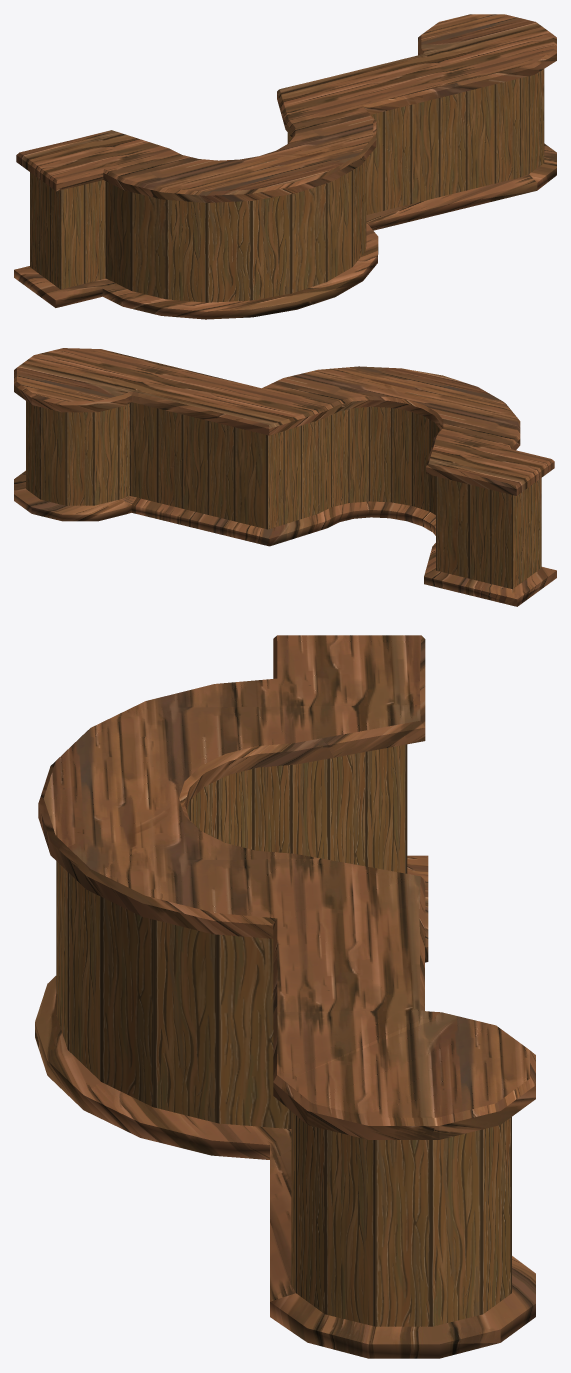
The model's file is Bar_Island.fbx.
The picture shows the model from 3 angles, top to bottom: view 1: azimuth 30°, elevation 25°; view 2: azimuth 150°, elevation 25°; view 3: azimuth 270°, elevation 25°; orthographic projection. The views are drawn at different scales.
Visible parts, largest first — view 1: 1_BarIsland; view 2: 1_BarIsland; view 3: 1_BarIsland.
Boxes of the visible parts, x1=… form: 1_BarIsland: x1=14, y1=14, x2=556, y2=319; 1_BarIsland: x1=14, y1=348, x2=556, y2=606; 1_BarIsland: x1=35, y1=635, x2=535, y2=1358.
Size of the model in its own units: 466 by 107 by 202.
